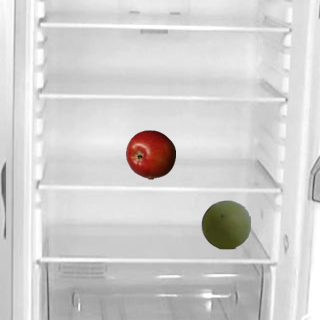Apple Braeburn: (125, 129, 175, 179)
Grape White 4: (200, 199, 250, 249)
